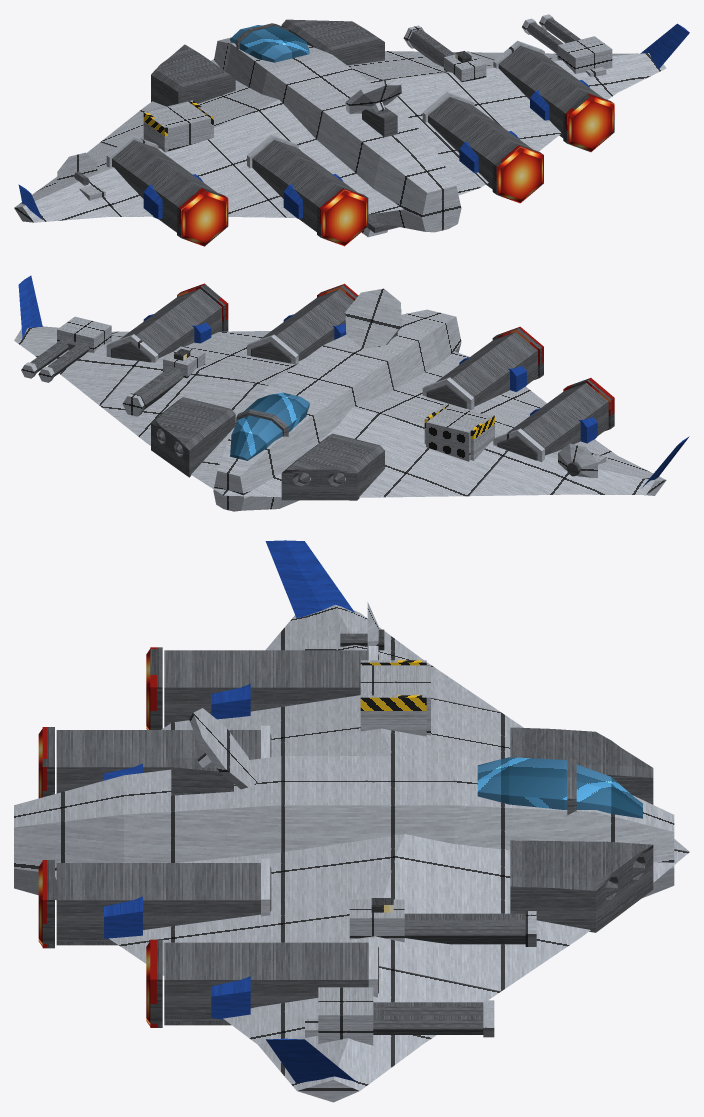
File: lammergeier.glb
3 renders of one model, top to bottom at view 1: azimuth 30°, elevation 25°; view 2: azimuth 150°, elevation 25°; view 3: azimuth 270°, elevation 25°, orthographic. The views are drawn at different scales.
Visible parts, largest first — view 1: wing, body, booster.001, booster, booster.002, booster.003, drone_pod, drone_pod.003, exhaust, canopy, exhaust.002, exhaust.003 (+24 smaller); view 2: wing, body, booster.001, booster, booster.003, drone_pod.003, booster.002, canopy, drone_pod, contractor_dish, drone_pod.002, receiver.001 (+25 smaller); view 3: wing, body, booster.002, booster.003, booster, drone_pod.003, booster.001, canopy, drone_pod, barrel, fin, receiver.001 (+16 smaller).
Part boxes in pixels (x1=…): wing: x1=14, y1=51, x2=666, y2=222; body: x1=214, y1=37, x2=461, y2=232; booster.001: x1=252, y1=139, x2=356, y2=231; booster: x1=112, y1=140, x2=216, y2=232; booster.002: x1=428, y1=97, x2=532, y2=189; booster.003: x1=498, y1=45, x2=603, y2=137; drone_pod: x1=151, y1=44, x2=232, y2=106; drone_pod.003: x1=281, y1=19, x2=379, y2=53; exhaust: x1=181, y1=190, x2=227, y2=245; canopy: x1=230, y1=25, x2=309, y2=62; exhaust.002: x1=497, y1=147, x2=543, y2=202; exhaust.003: x1=568, y1=96, x2=613, y2=151; wing: x1=14, y1=326, x2=666, y2=497; body: x1=213, y1=309, x2=461, y2=511; booster.001: x1=436, y1=332, x2=537, y2=406; booster: x1=507, y1=383, x2=608, y2=455; booster.003: x1=120, y1=288, x2=221, y2=358; drone_pod.003: x1=152, y1=397, x2=235, y2=477; booster.002: x1=260, y1=289, x2=353, y2=360; canopy: x1=230, y1=392, x2=309, y2=460; drone_pod: x1=283, y1=433, x2=384, y2=499; contractor_dish: x1=345, y1=288, x2=401, y2=348; drone_pod.002: x1=281, y1=468, x2=357, y2=500; receiver.001: x1=57, y1=316, x2=111, y2=352; wing: x1=55, y1=605, x2=689, y2=1102; body: x1=14, y1=756, x2=674, y2=900; booster.002: x1=56, y1=863, x2=260, y2=945; booster.003: x1=164, y1=942, x2=368, y2=1025; booster: x1=164, y1=650, x2=368, y2=727; drone_pod.003: x1=510, y1=840, x2=652, y2=932; booster.001: x1=56, y1=730, x2=260, y2=793; canopy: x1=477, y1=757, x2=642, y2=818; drone_pod: x1=510, y1=727, x2=653, y2=804; barrel: x1=404, y1=913, x2=525, y2=944; fin: x1=265, y1=540, x2=354, y2=617; receiver.001: x1=318, y1=987, x2=373, y2=1045.
Size of the model in its own units: 150 by 30.75 by 86.
13 materials, 13 textured.
